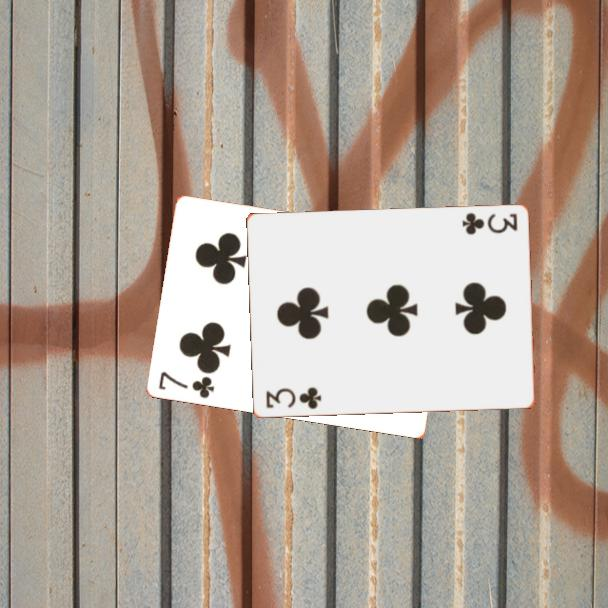c03: (458, 209, 520, 238), (262, 384, 324, 412)
c07: (155, 368, 217, 401)
